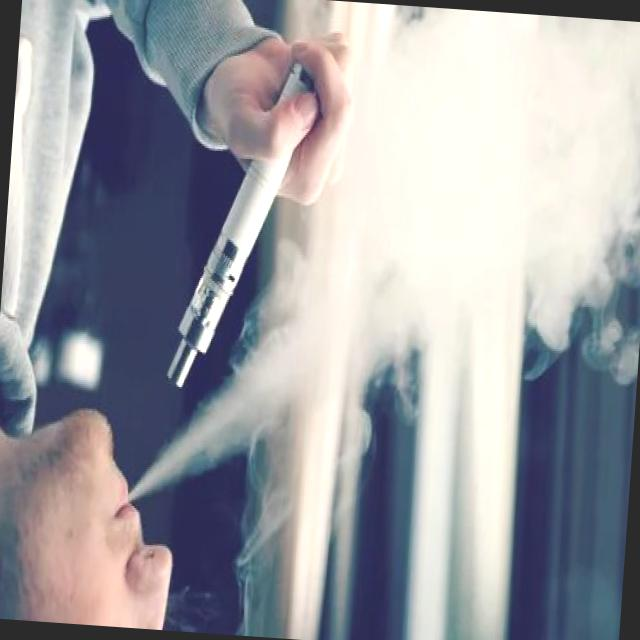smoke: (160, 48, 326, 407)
